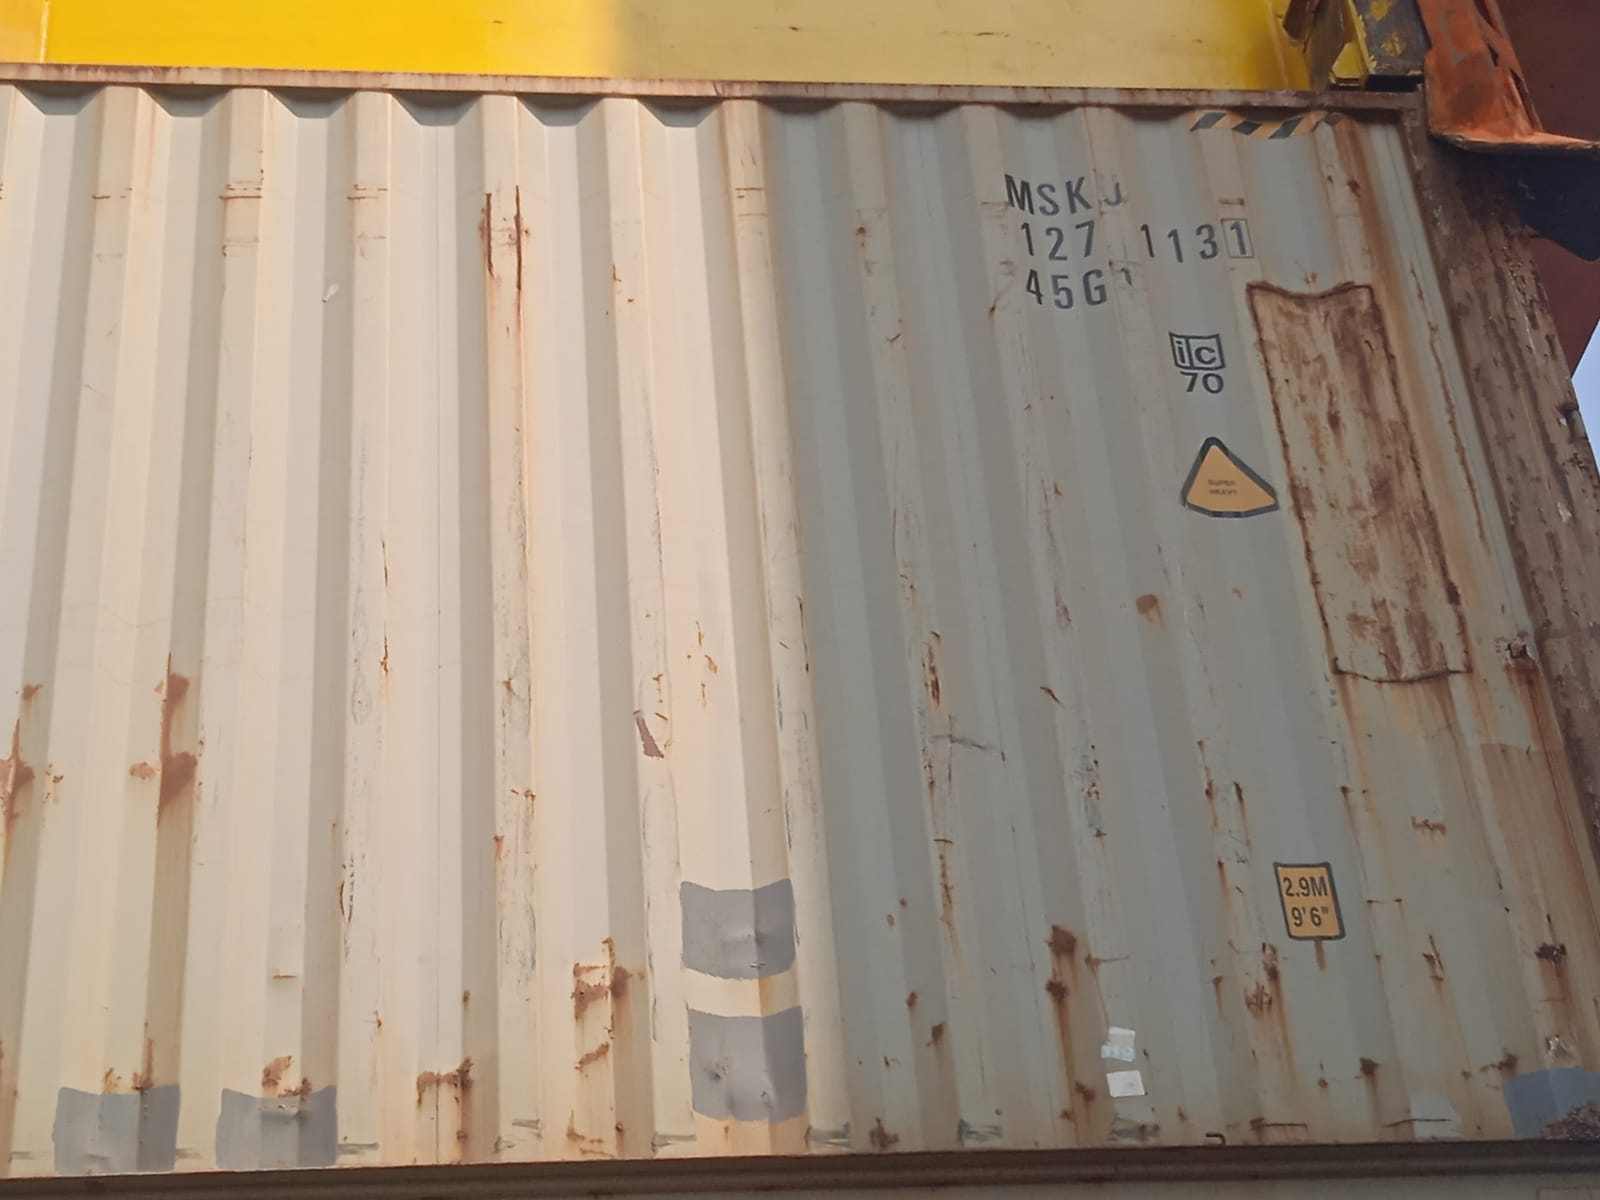dented: (532, 947, 659, 1075), (386, 1050, 501, 1111)
rust: (1004, 925, 1330, 1070)
